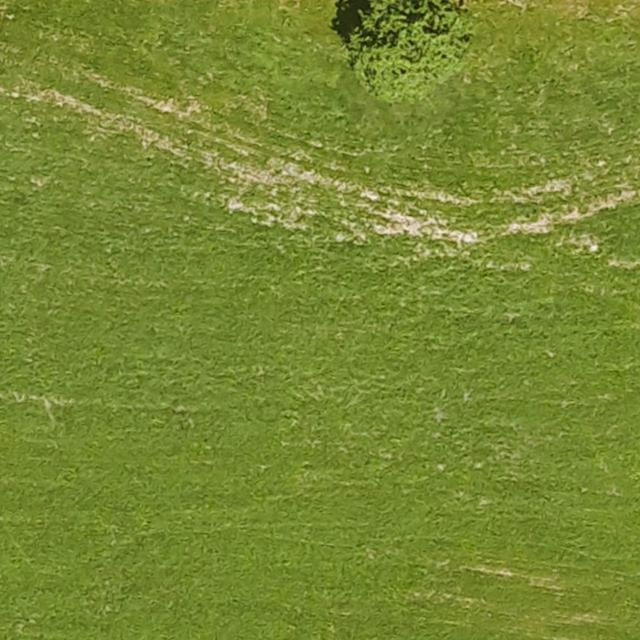tree: (349, 0, 468, 92)
